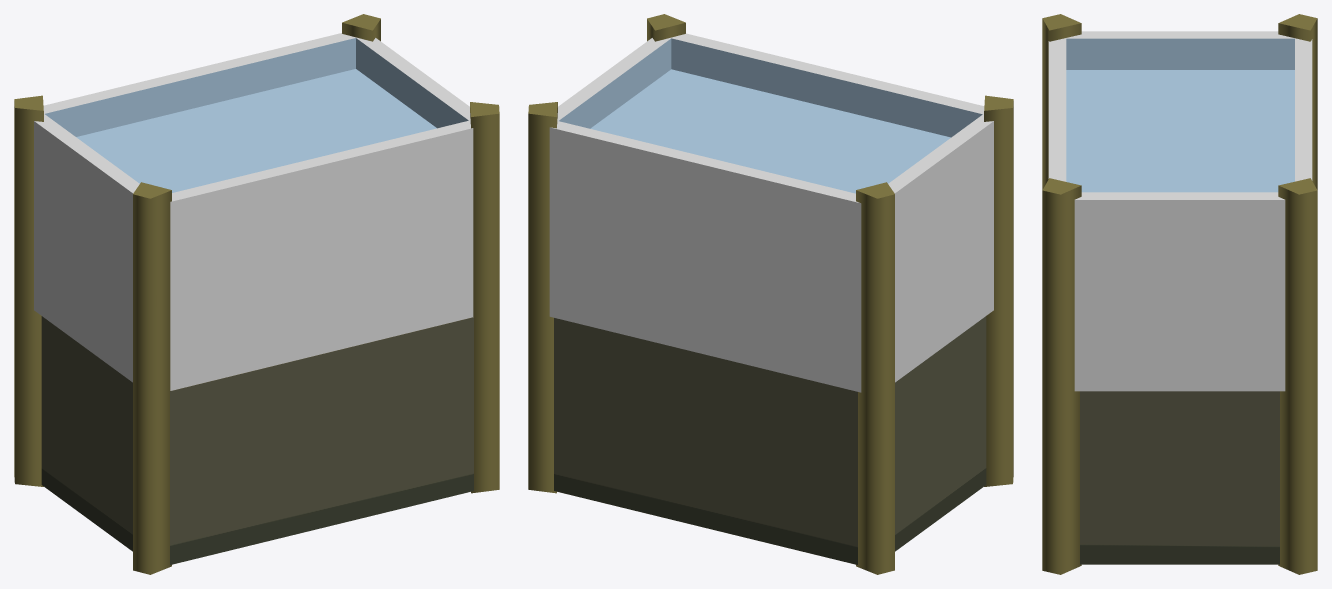
The model's file is jellyfish_tank1.fbx.
3 views of the same model, side by side, from view 1: azimuth 30°, elevation 25°; view 2: azimuth 150°, elevation 25°; view 3: azimuth 270°, elevation 25° (orthographic).
Visible parts, largest first — view 1: Cube.064; view 2: Cube.064; view 3: Cube.064.
Boxes of the visible parts, left/top/right/bottom form: Cube.064: left=14, top=14, right=499, bottom=574; Cube.064: left=528, top=14, right=1013, bottom=574; Cube.064: left=1042, top=14, right=1317, bottom=574.
Size of the model in its own units: 176 by 173 by 113.
Materials: 4 (1 with a texture image).
